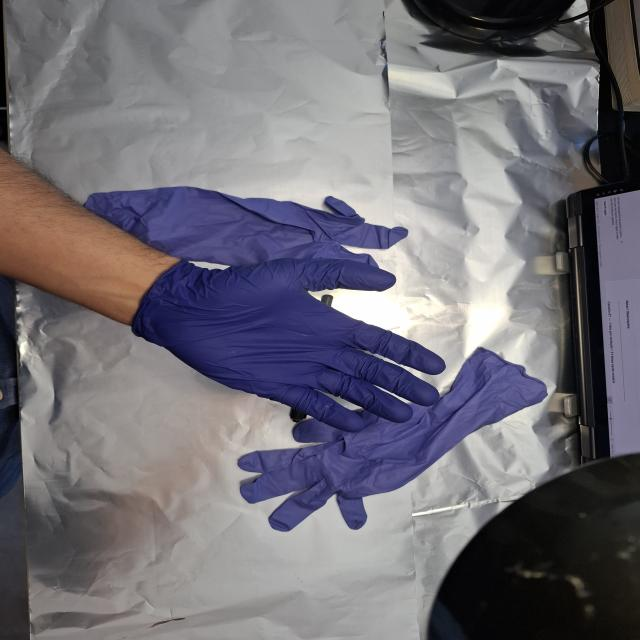glove_on: (130, 256, 449, 434)
